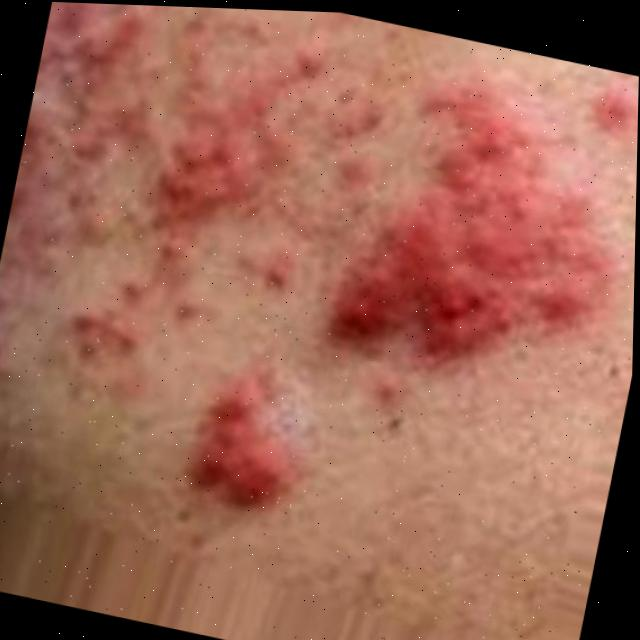Shingles: (0, 0, 640, 582)
